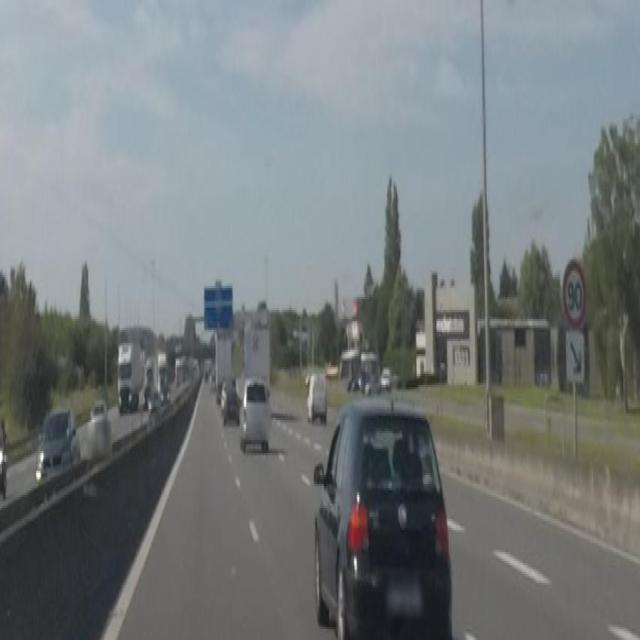speed_90: (564, 259, 587, 329)
